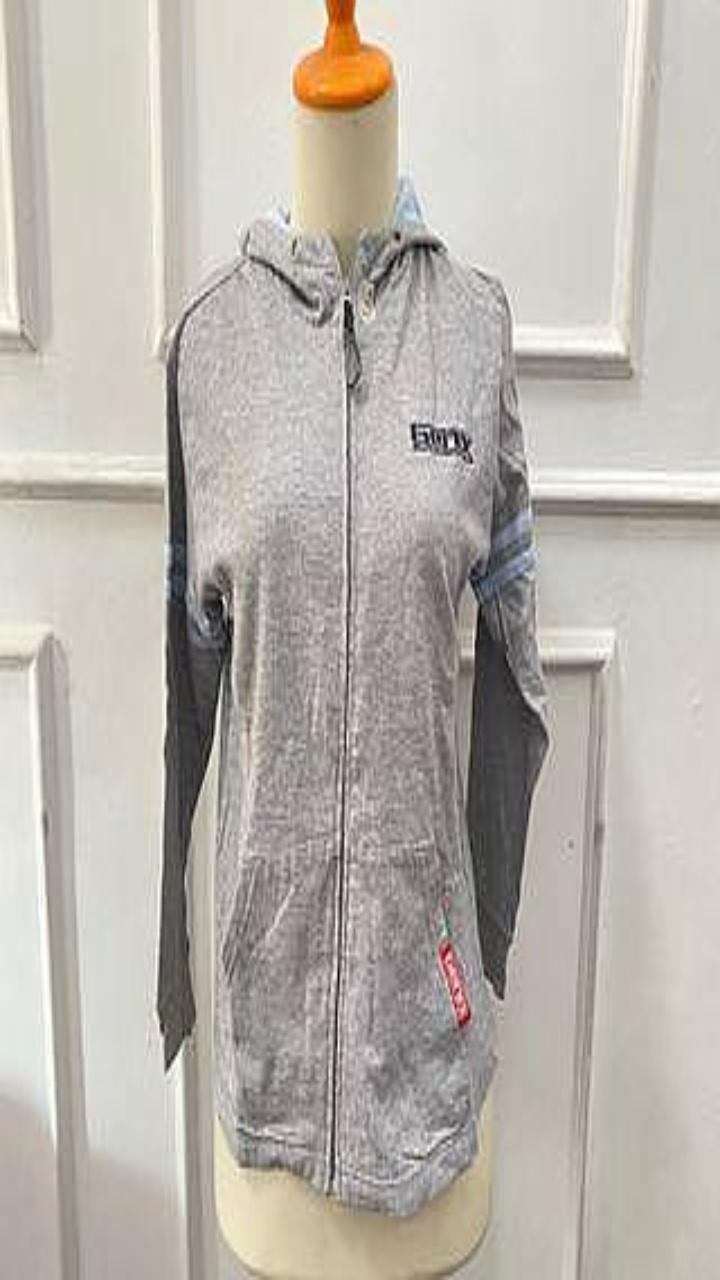Sports_Jacket: (156, 174, 549, 1214)
